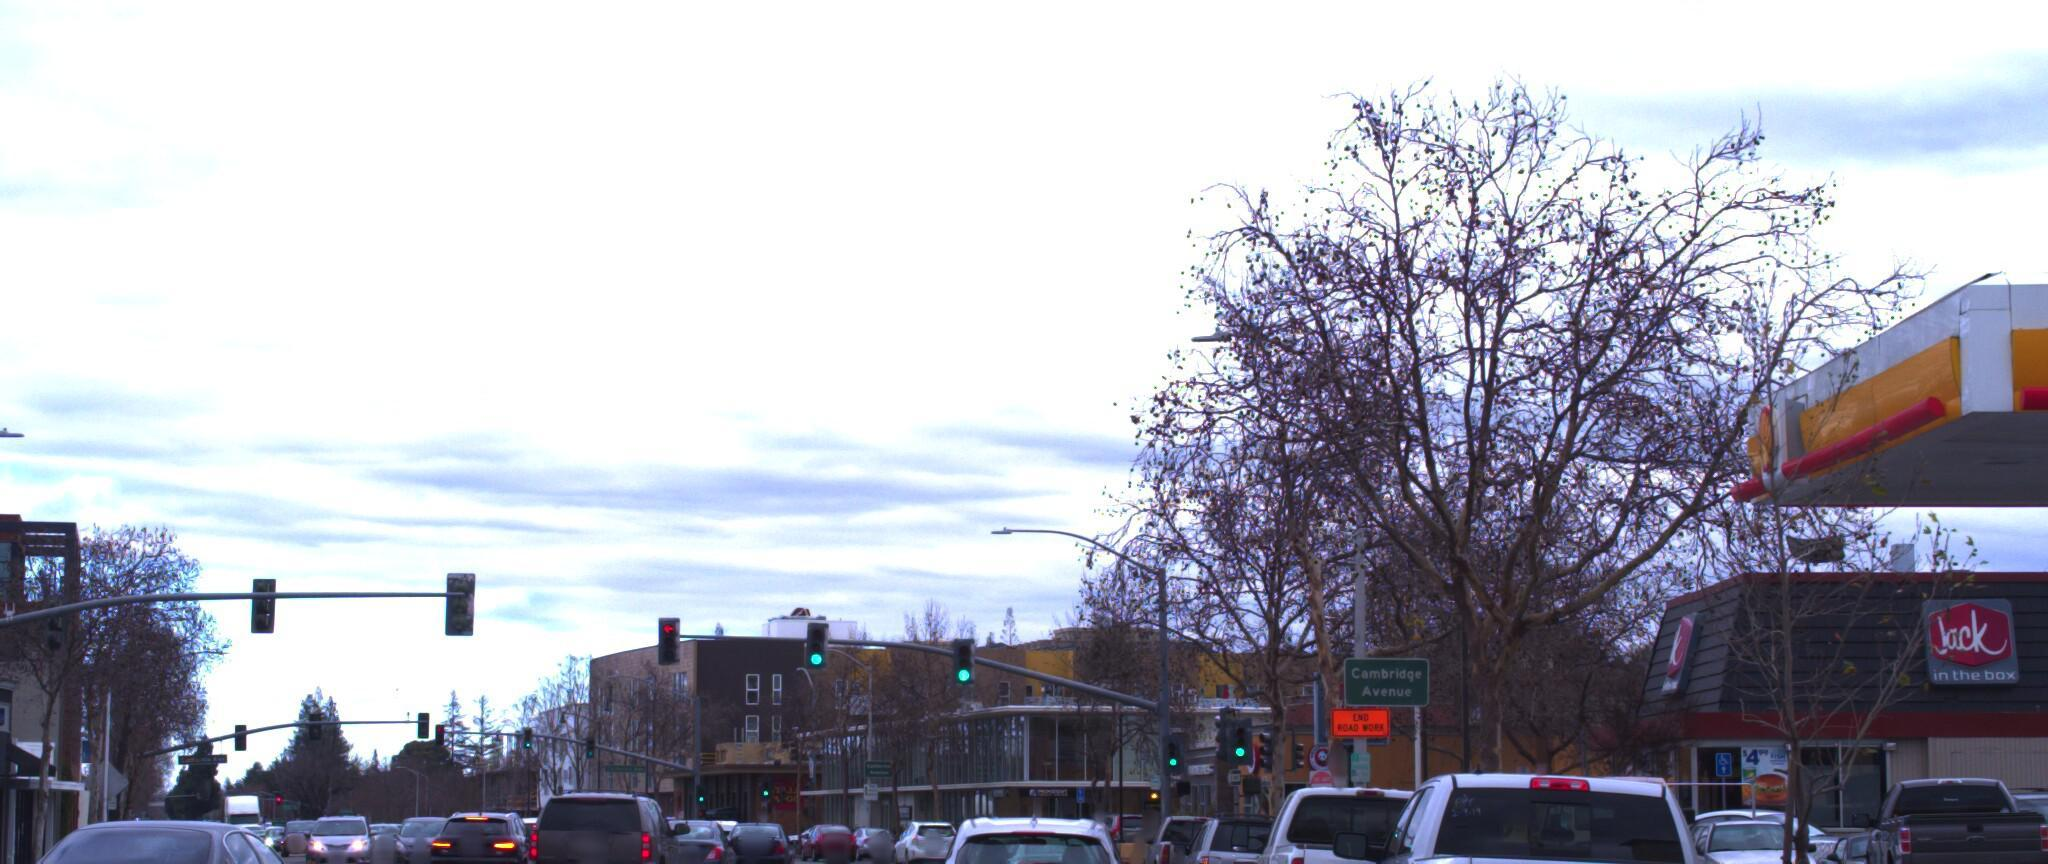car: (1330, 749, 1801, 864), (1238, 766, 1498, 864), (0, 799, 368, 864), (1836, 760, 2048, 864), (1509, 754, 1708, 864), (519, 765, 690, 864), (920, 801, 1149, 864), (428, 784, 569, 864), (1169, 788, 1313, 864), (1661, 800, 1827, 864), (1142, 794, 1256, 864), (644, 804, 754, 864), (722, 790, 808, 864), (2000, 769, 2048, 864)
